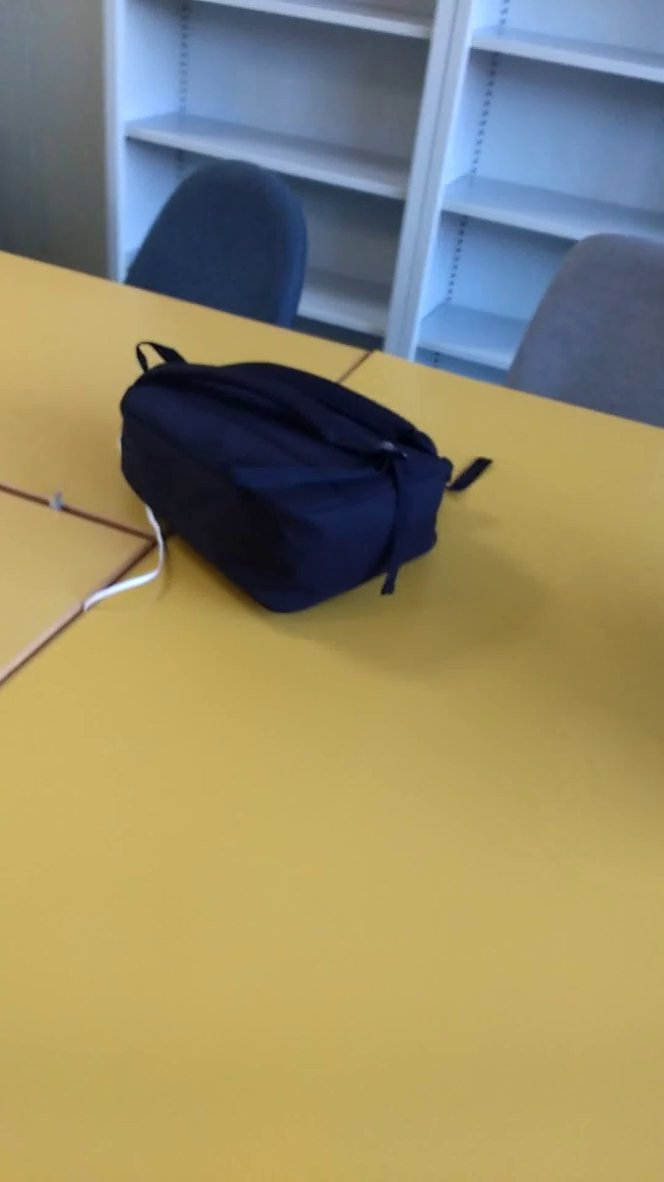bag: (111, 333, 514, 637)
chair: (110, 142, 325, 366)
